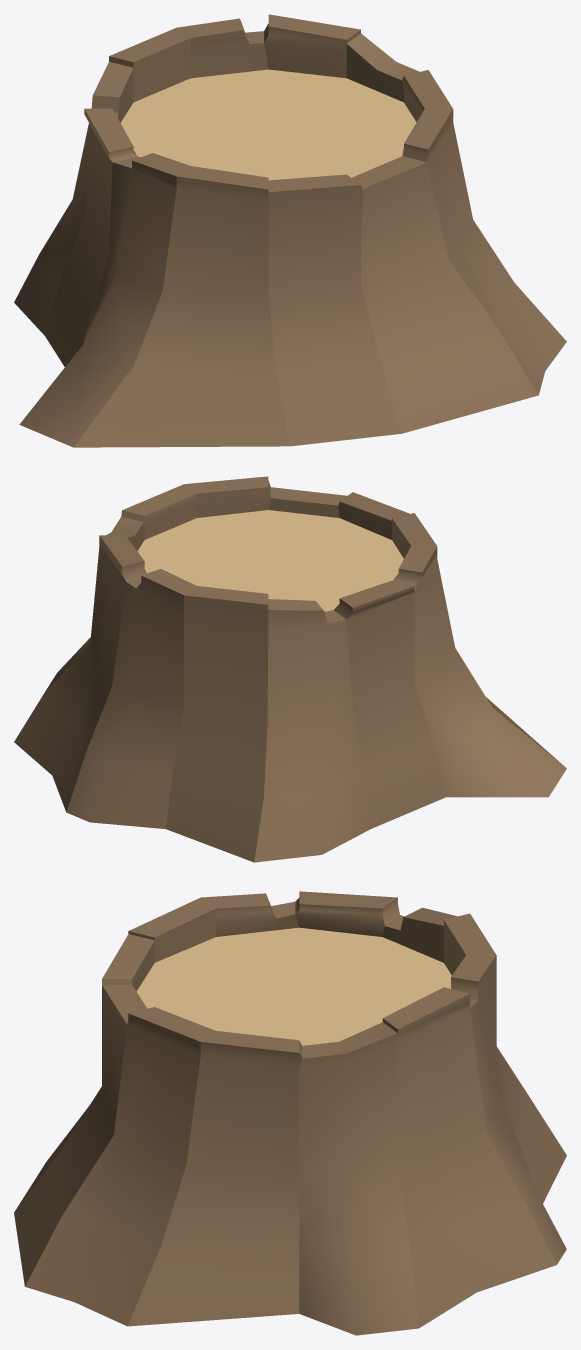
Rendered from treeRoot.fbx.
The picture shows the model from 3 angles, top to bottom: view 1: azimuth 30°, elevation 25°; view 2: azimuth 150°, elevation 25°; view 3: azimuth 270°, elevation 25°; orthographic projection. The views are drawn at different scales.
Parts seen in each view (by area): view 1: pCylinder38; view 2: pCylinder38; view 3: pCylinder38.
Boxes of the visible parts, x1,y1,x2,y2 form: pCylinder38: (14,14,566,447); pCylinder38: (14,476,566,862); pCylinder38: (14,891,566,1335).
Bounding box in the file's own units: 1.98 × 0.8976 × 1.73.
